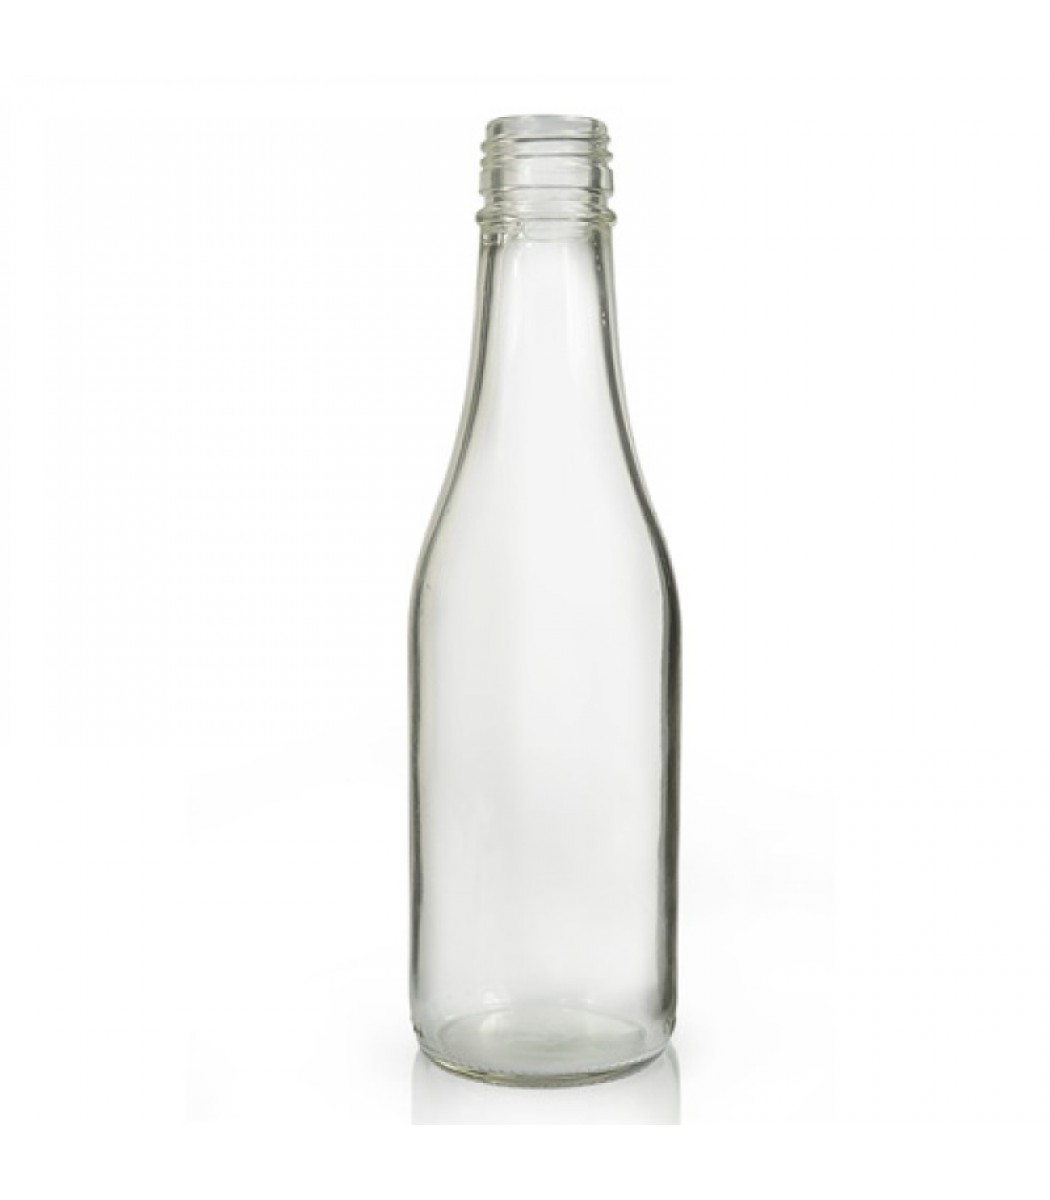glass of water: (422, 97, 683, 1103)
